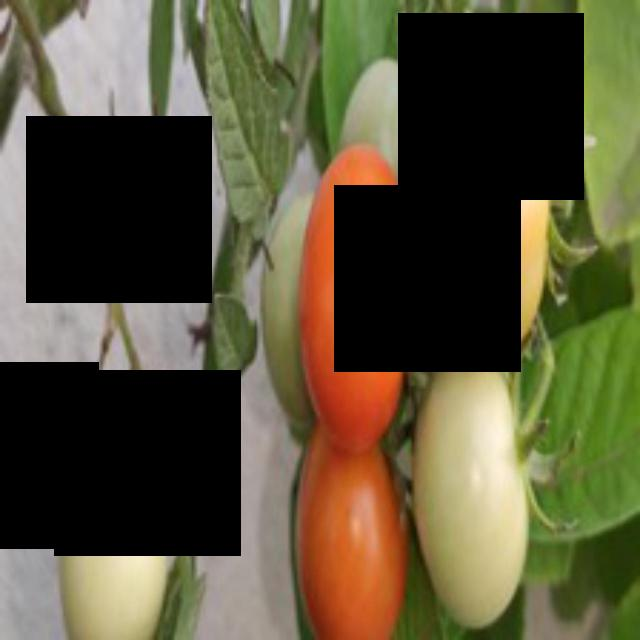tomato: (295, 142, 420, 439), (286, 411, 416, 637)
